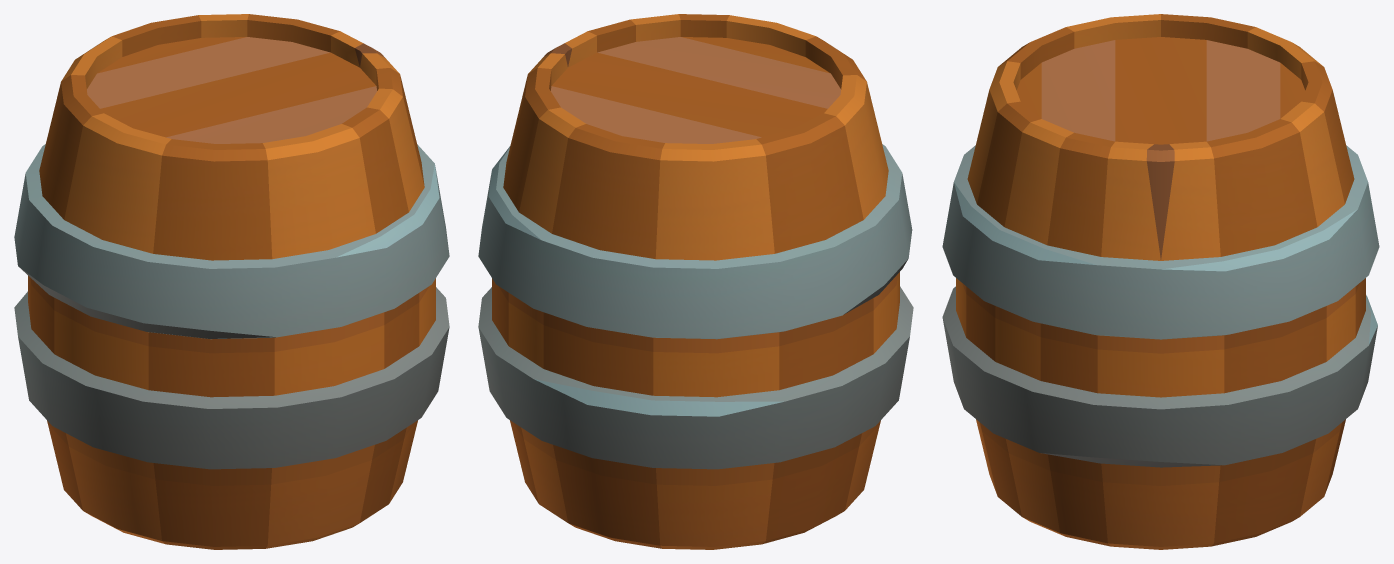
File: Barrel.fbx
The picture shows the model from 3 angles, left to right: view 1: azimuth 30°, elevation 25°; view 2: azimuth 150°, elevation 25°; view 3: azimuth 270°, elevation 25°; orthographic projection.
Visible parts, largest first — view 1: Barrel; view 2: Barrel; view 3: Barrel.
Part boxes in pixels (x1,y1,x2,y2): Barrel: (14,14,449,549); Barrel: (478,14,913,549); Barrel: (942,14,1379,549).
Bounding box in the file's own units: 61.5 × 62.01 × 61.5.
